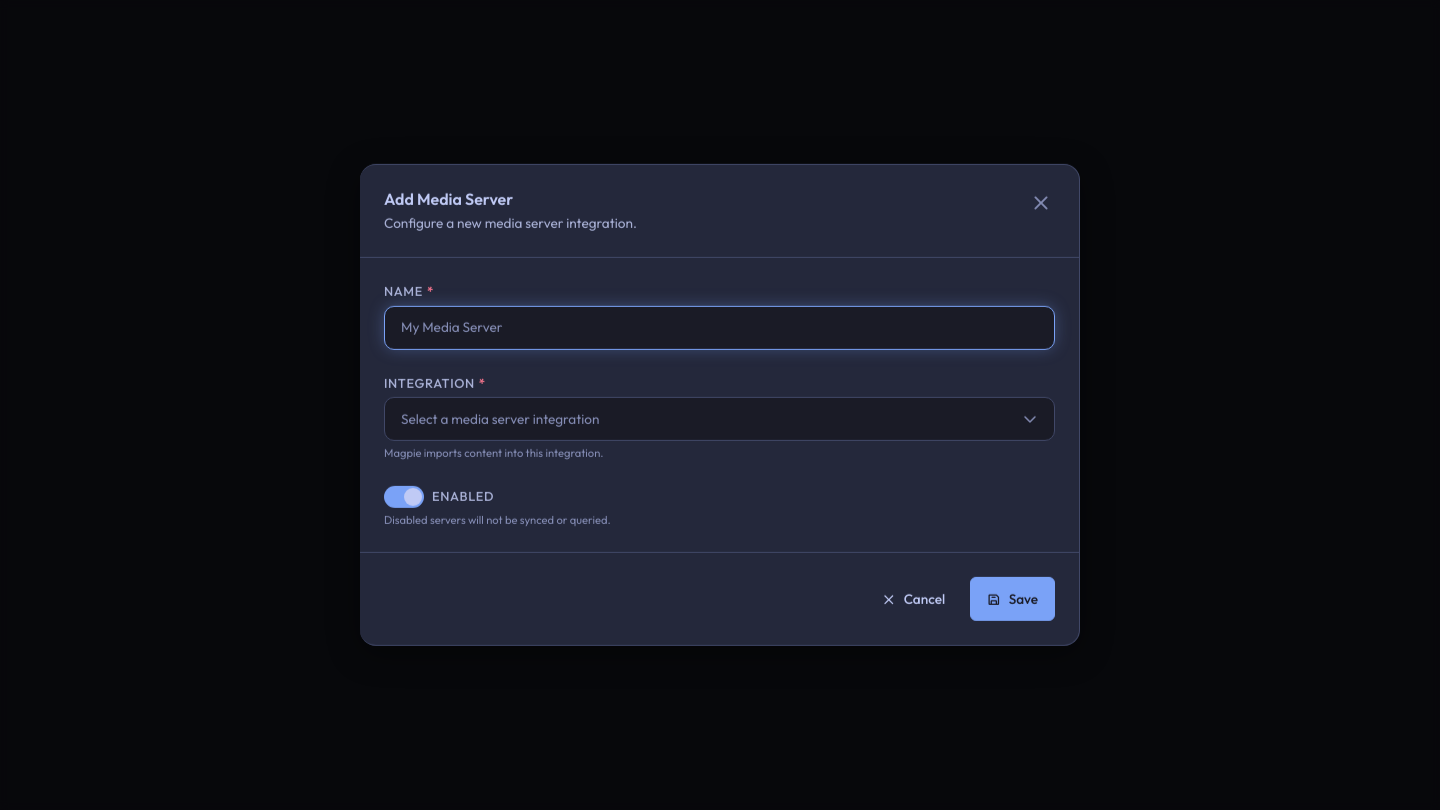
Test case: MediaServerForm › shows the registered product name in the integration picker and keeps the provider id as its value
Click the dropdown labelled "Select a media server integration" at point(500, 418), box [384, 397, 1055, 441]
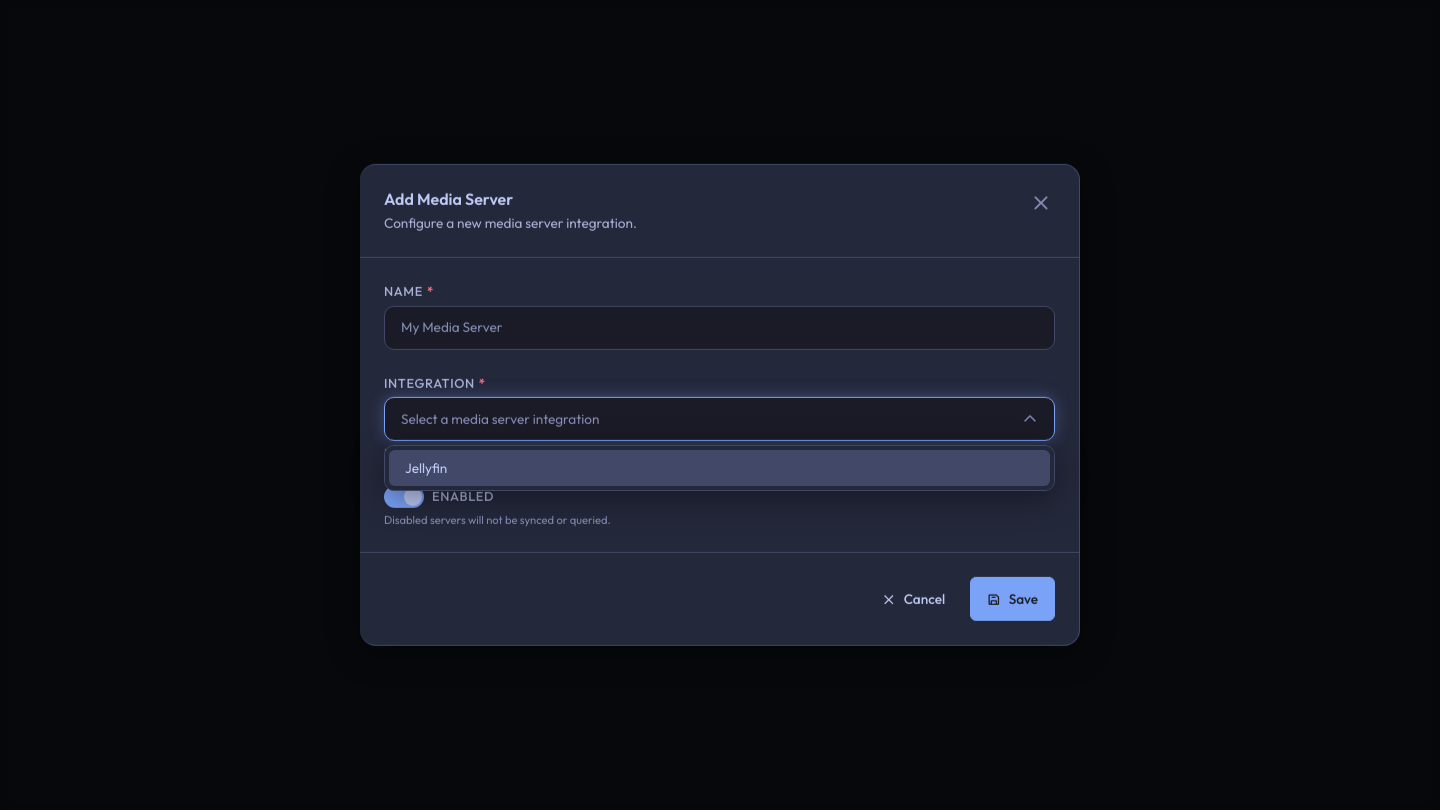
Click the option "Jellyfin" at point(426, 468), box [389, 450, 1050, 486]
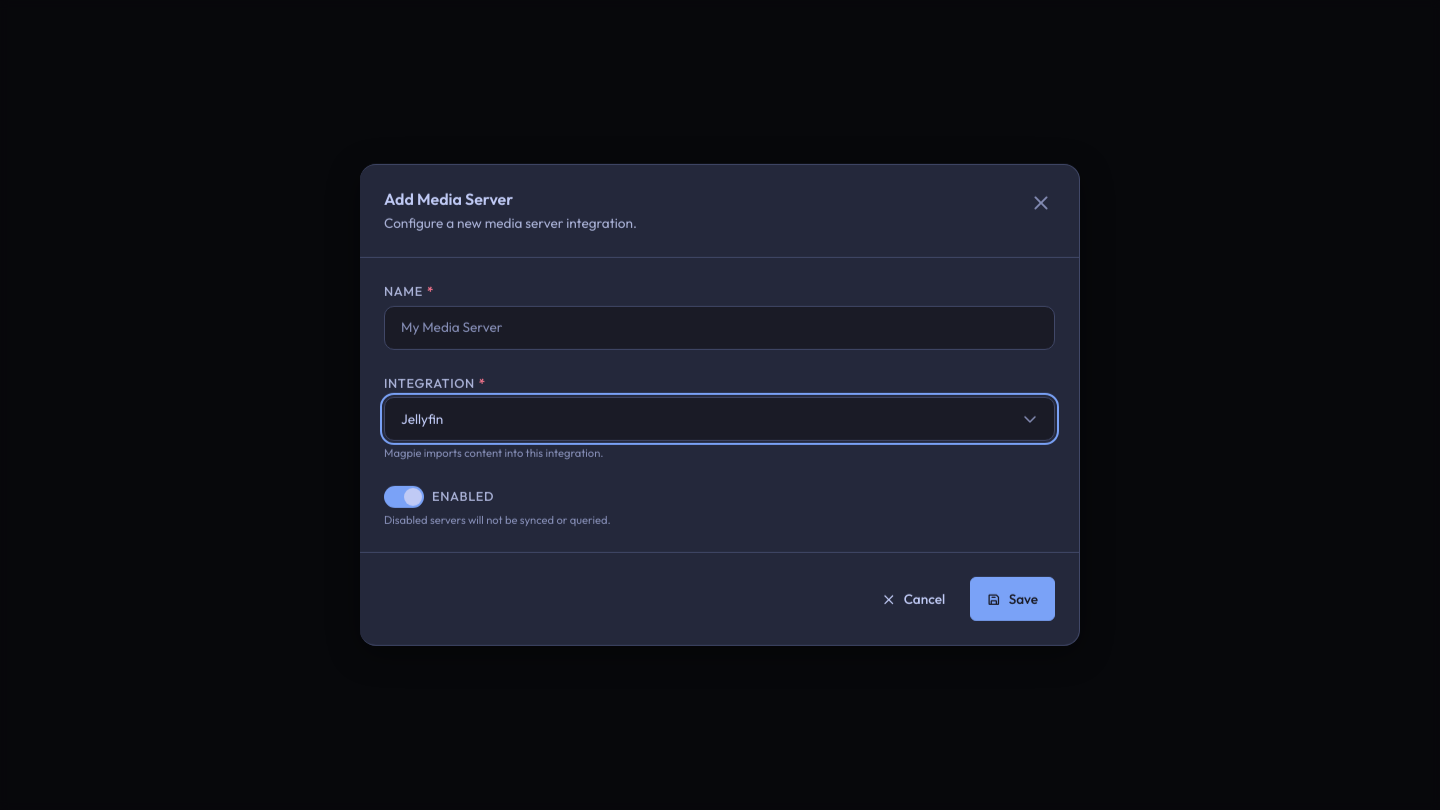
expect the dropdown named "integration" reads "Jellyfin": met, box [384, 397, 1055, 441]
